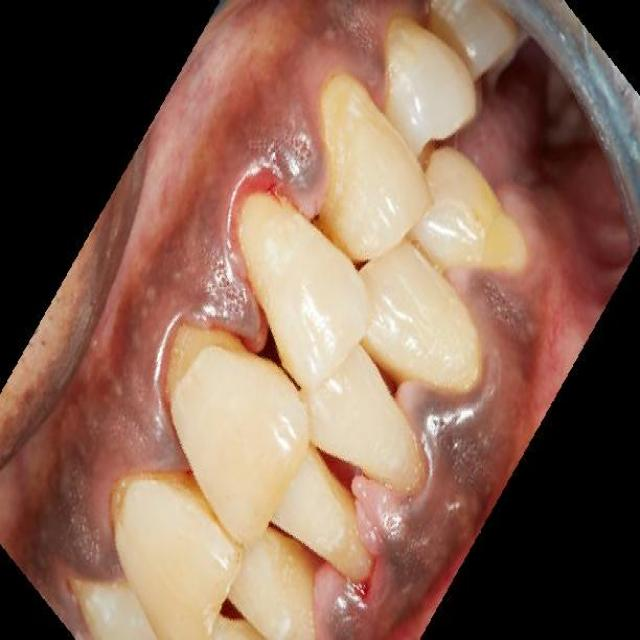bleeding: (335, 549, 393, 609), (241, 284, 272, 366)
redness: (268, 130, 334, 222), (190, 249, 237, 329)
